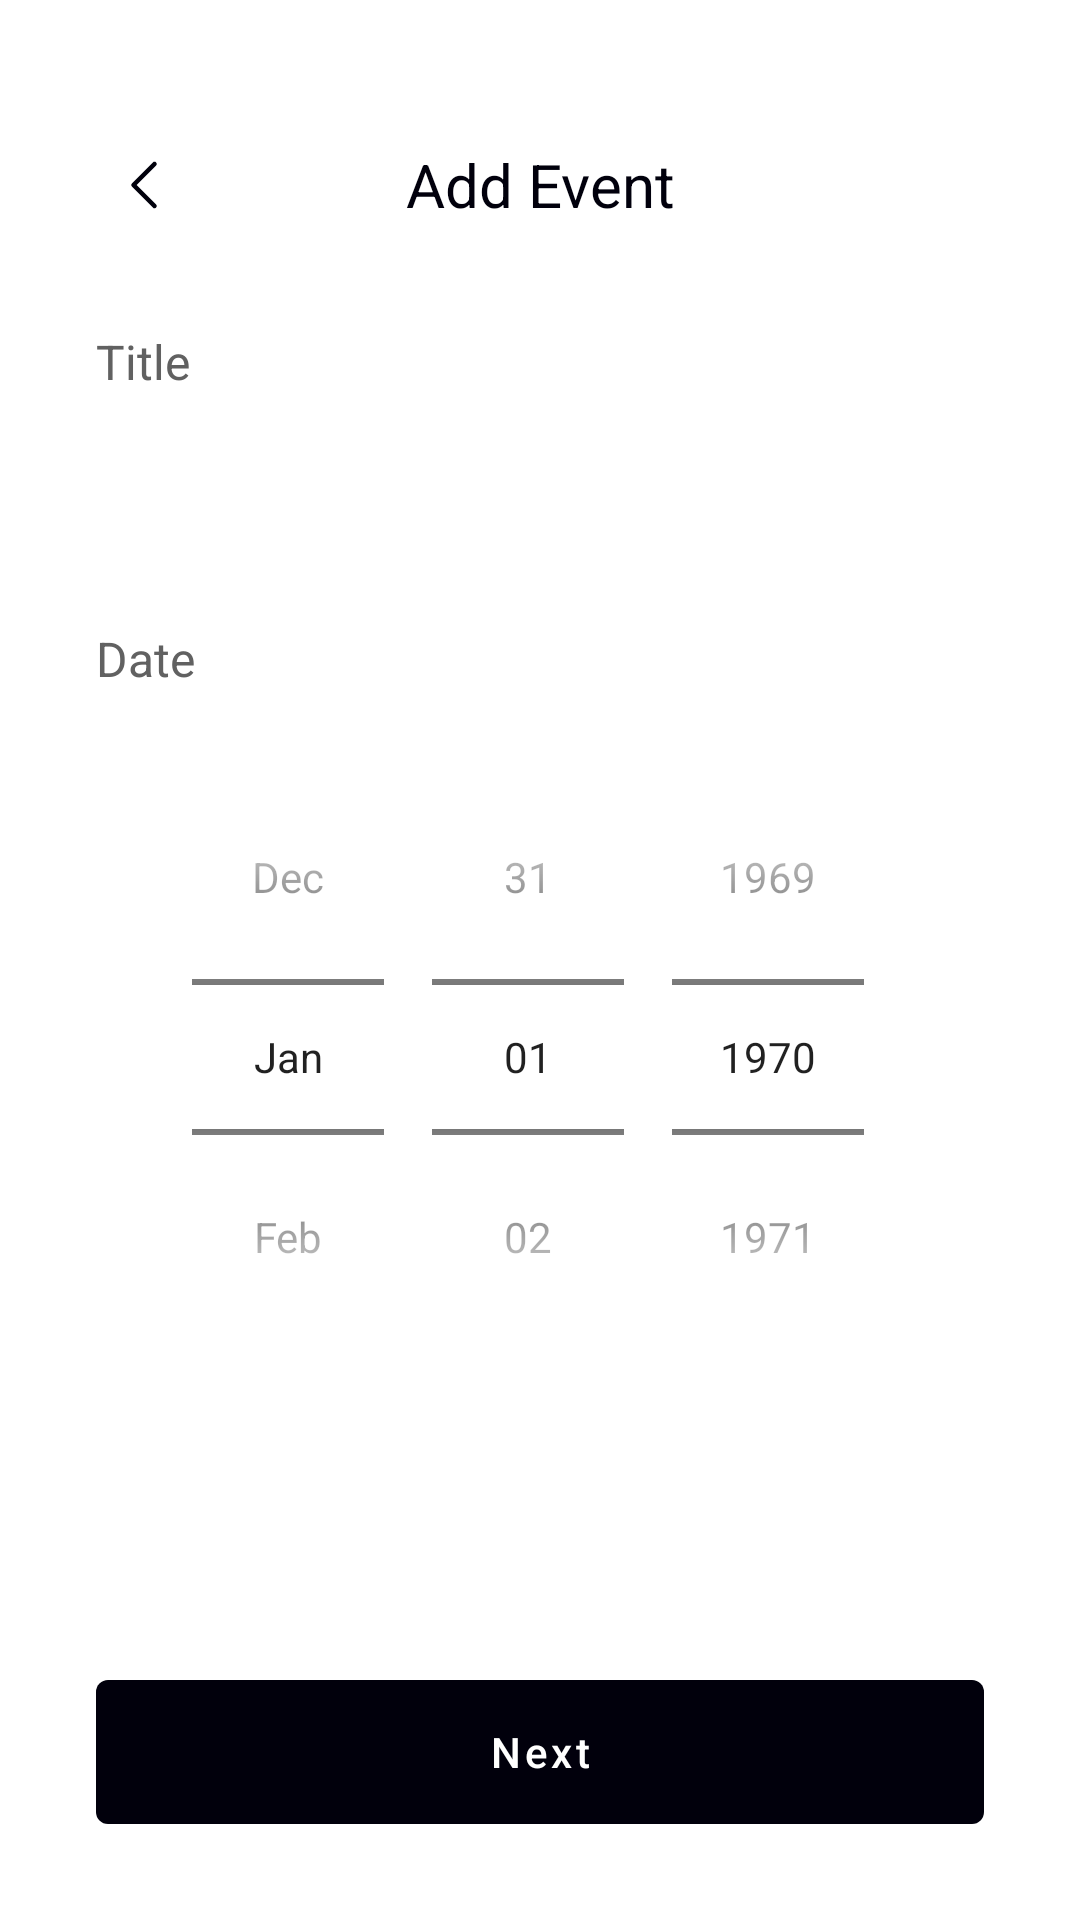

Point at icon controls on the screen. Image size 1080x1920, points as point (x, y).
arrow left: point (144, 185)
